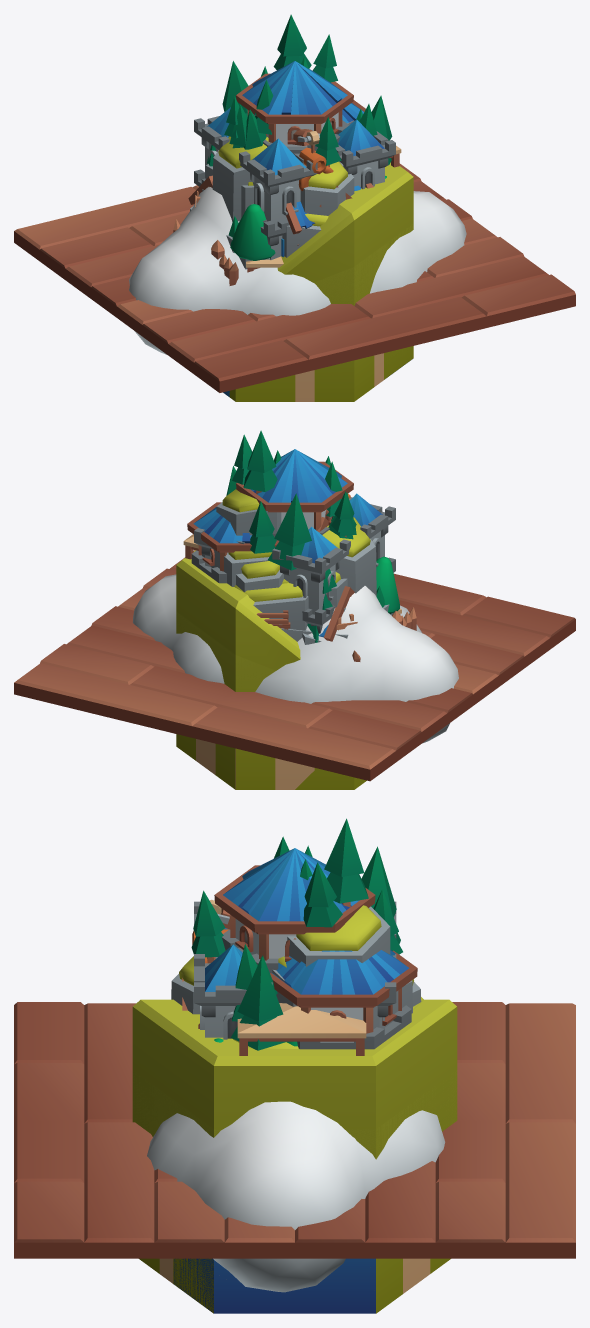
The model's file is lands.glb.
The picture shows the model from 3 angles, top to bottom: view 1: azimuth 30°, elevation 25°; view 2: azimuth 150°, elevation 25°; view 3: azimuth 270°, elevation 25°; orthographic projection. The views are drawn at different scales.
Parts seen in each view (by area): view 1: floor_wood_large, cloud_big, hex_grass_sloped_high, building_barracks_blue, building_tower_A_top_blue, mountain_C_grass_trees, mountain_B_grass_trees, hex_grass_sloped_low, mountain_C, hex_river_crossing_B, mountain_A_grass_trees, trees_B_large (+8 smaller); view 2: floor_wood_large, cloud_big, hex_grass_sloped_high, building_barracks_blue, mountain_C_grass_trees, building_tower_A_top_blue, mountain_B_grass_trees, building_archeryrange_blue, hex_river_crossing_A, hex_grass_sloped_low, mountain_A_grass_trees, mountain_C (+7 smaller); view 3: floor_wood_large, hex_grass_sloped_high, cloud_big, building_archeryrange_blue, building_tower_A_top_blue, mountain_B_grass_trees, hex_coast_D, building_barracks_blue, building_scaffolding, hex_grass_sloped_low, mountain_A_grass_trees, mountain_C_grass_trees (+6 smaller).
Boxes of the visible parts, x1,y1,x2,y2 form: floor_wood_large: (14,163,575,392); cloud_big: (129,187,466,354); hex_grass_sloped_high: (277,162,413,357); building_barracks_blue: (194,107,395,259); building_tower_A_top_blue: (236,61,353,146); mountain_C_grass_trees: (213,66,362,262); mountain_B_grass_trees: (190,14,377,251); hex_grass_sloped_low: (314,224,413,379); mountain_C: (212,158,346,268); hex_river_crossing_B: (295,360,353,401); mountain_A_grass_trees: (222,56,392,210); trees_B_large: (230,176,386,260); floor_wood_large: (14,550,575,781); cloud_big: (133,574,458,743); hex_grass_sloped_high: (176,550,300,690); building_barracks_blue: (194,493,395,633); mountain_C_grass_trees: (234,456,376,612); building_tower_A_top_blue: (236,449,353,530); mountain_B_grass_trees: (215,430,389,641); building_archeryrange_blue: (187,502,354,641); hex_river_crossing_A: (236,748,315,789); hex_grass_sloped_low: (176,612,275,691); mountain_A_grass_trees: (226,450,356,583); mountain_C: (244,546,376,630); floor_wood_large: (14,1002,575,1258); hex_grass_sloped_high: (132,999,457,1159); cloud_big: (147,1101,445,1292); building_archeryrange_blue: (270,950,417,1049); building_tower_A_top_blue: (214,848,375,961); mountain_B_grass_trees: (232,818,412,1048); hex_coast_D: (173,1258,375,1313); building_barracks_blue: (194,901,396,1039); building_scaffolding: (237,1003,366,1055); hex_grass_sloped_low: (132,1071,457,1312); mountain_A_grass_trees: (231,846,400,1050); mountain_C_grass_trees: (183,836,421,1014).
Size of the model in its own units: 4 by 3.5 by 4.
Materials: 3 (3 with a texture image).
